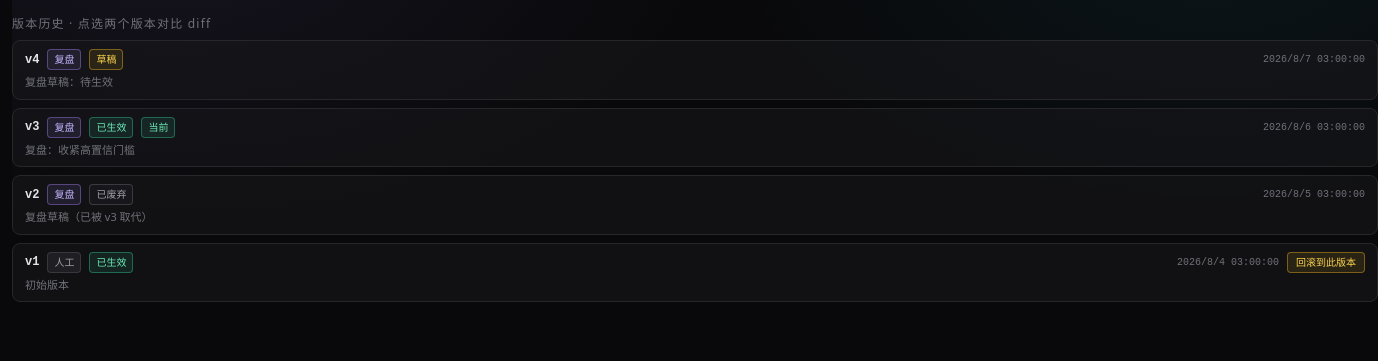
Test: ResearchPromptVersions(研报提示词版本历史) › 回滚失败：展示 ApiError.detail
Expected: the text "v1" is shown, 25,254 -> 39,270
Click the button "回滚到此版本" at (1326, 262), box 1287,252 -> 1365,272
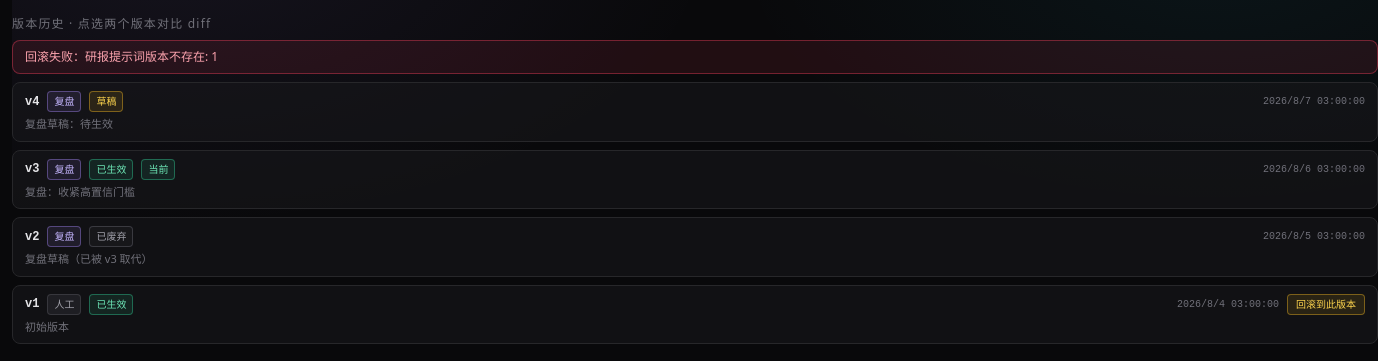
Now the text "回滚失败：研报提示词版本不存在: 1" is shown, box 12,40 -> 1377,74
